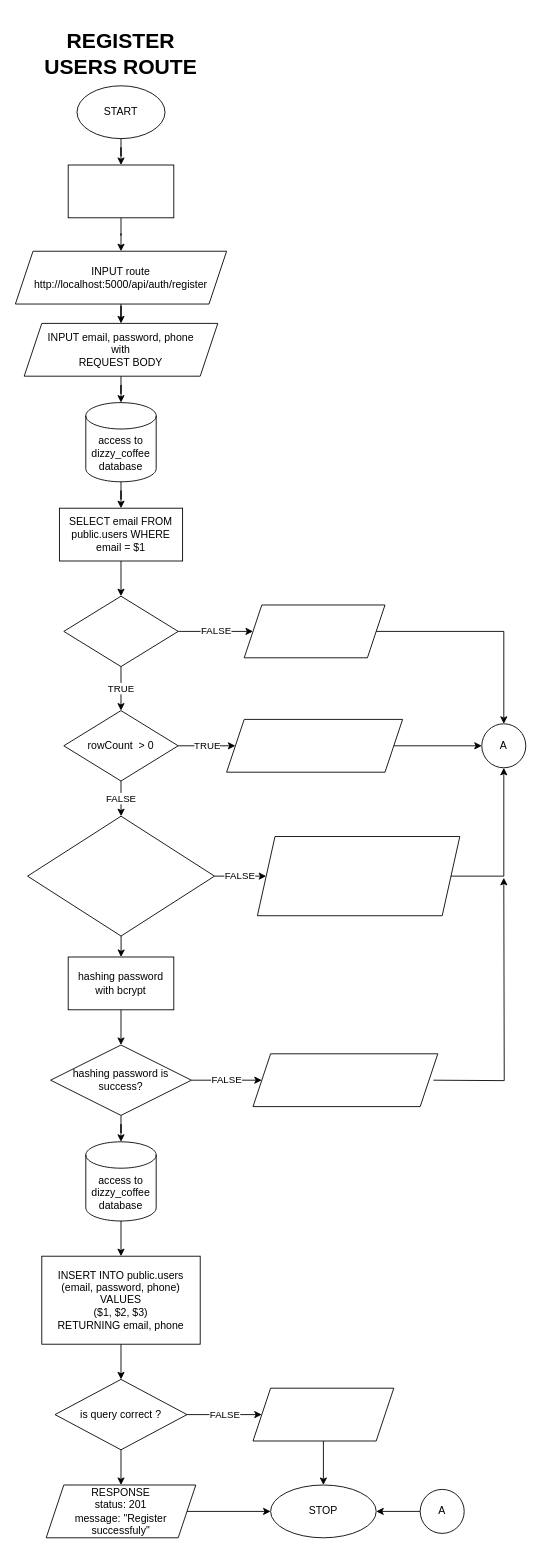
Image size: 541x1553. Some labels were removed from this diagram. The centre of each missing label's shape, as x and y in pixels:
email == "" OR password == "" OR phone == "": pixel 121 875
is query correct?: pixel 120 631
RESPONSE status: 409 message: "Email is already exists": pixel 314 745
RESPONSE status: 500 message: "Hashing password is failed": pixel 345 1080
RESPONSE status: 500 message: "server intenal error": pixel 323 1414
RESPONSE status: 500 message: "Server internal error": pixel 314 631
RESPONSE status:400 message: "field email or password or phone is require": pixel 358 876
Running express app: pixel 120 191
